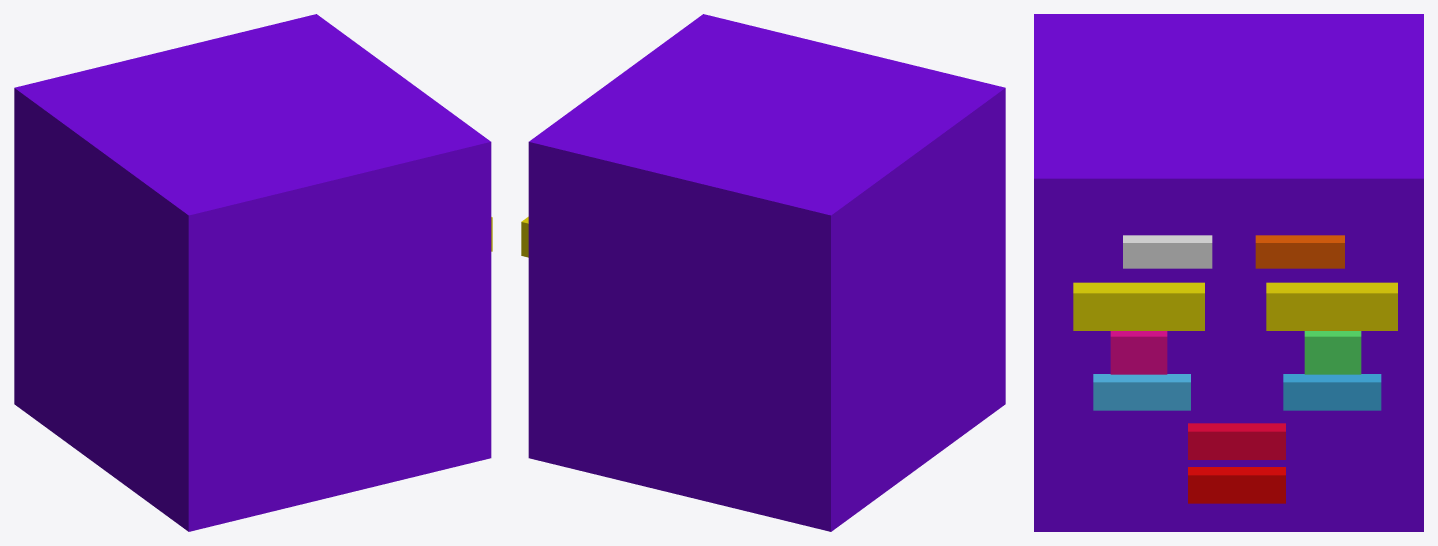
3 renders of one model, left to right at view 1: azimuth 30°, elevation 25°; view 2: azimuth 150°, elevation 25°; view 3: azimuth 270°, elevation 25°, orthographic. The views are drawn at different scales.
Visible parts, largest first — view 1: Cube; view 2: Cube; view 3: Cube, Cube.003, Cube.004, Cube.005, Cube.006, Cube.009, Cube.010, Cube.001, Cube.002, Cube.007, Cube.008.
Boxes of the visible parts, bbox=[...] form: Cube: bbox=[14, 14, 491, 531]; Cube: bbox=[528, 14, 1005, 531]; Cube: bbox=[1034, 14, 1423, 531]; Cube.003: bbox=[1073, 282, 1204, 330]; Cube.004: bbox=[1266, 282, 1397, 330]; Cube.005: bbox=[1283, 374, 1381, 410]; Cube.006: bbox=[1093, 374, 1190, 410]; Cube.009: bbox=[1188, 423, 1285, 459]; Cube.010: bbox=[1188, 467, 1285, 503]; Cube.001: bbox=[1123, 235, 1212, 268]; Cube.002: bbox=[1255, 235, 1344, 268]; Cube.007: bbox=[1110, 331, 1167, 374]; Cube.008: bbox=[1304, 331, 1361, 374].
Size of the model in its own units: 8.73 by 8.21 by 8.21.
